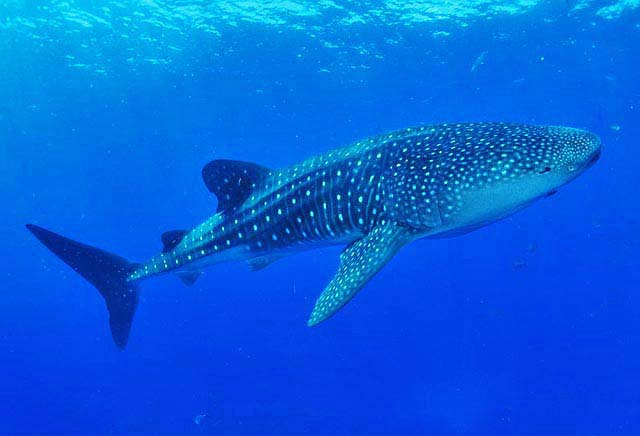Rhincodon_typusw: (18, 103, 631, 357)
